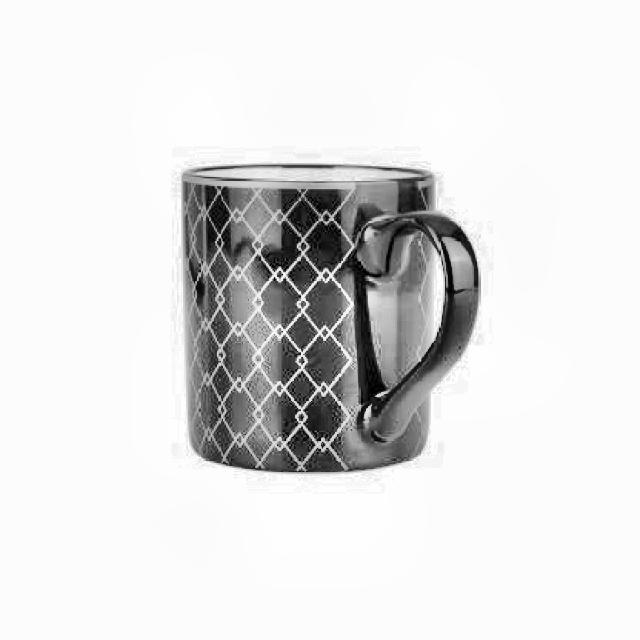Mug: (178, 160, 480, 478)
